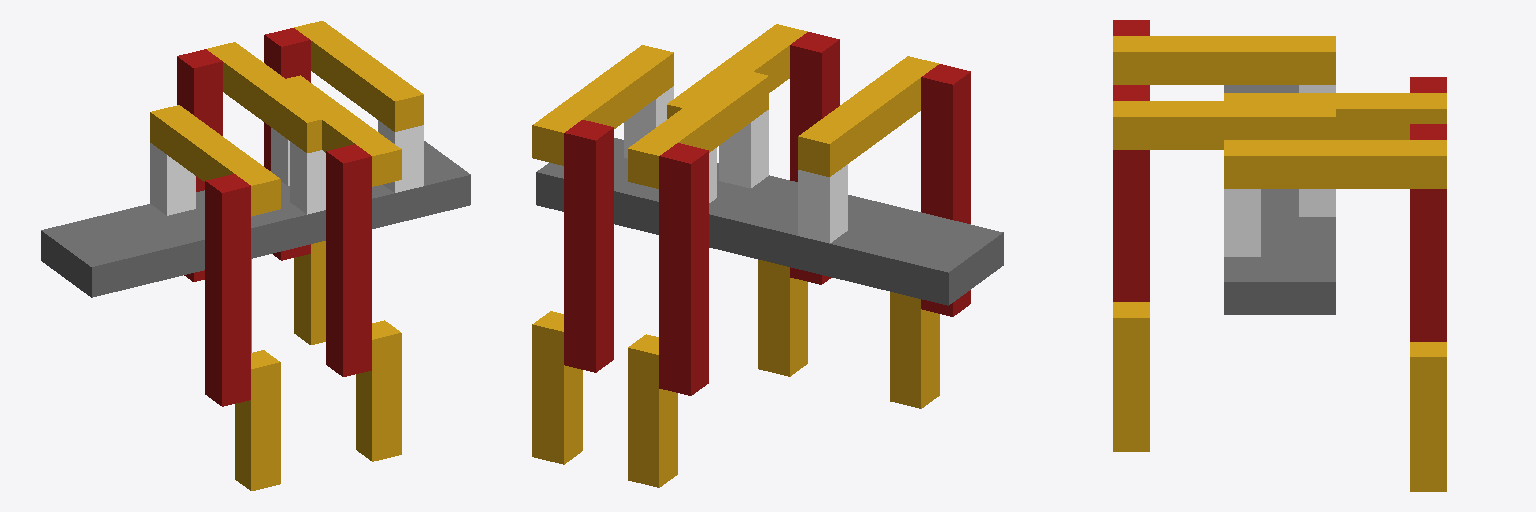
URDF robot description (v0):
<?xml version="1.0" encoding="utf-8"?>
<!-- =================================================================================== -->
<!-- |    This document was autogenerated by xacro from ../robots/v0variants/xacros/v0_4l_19.xacro | -->
<!-- |    EDITING THIS FILE BY HAND IS NOT RECOMMENDED                                 | -->
<!-- =================================================================================== -->
<robot name="v0">
  <material name="grey">
    <color rgba="0.5 0.5 0.5 1"/>
  </material>
  <material name="white">
    <color rgba="1 1 1 1"/>
  </material>
  <material name="yellow">
    <color rgba="0.91 0.7 0.14 1"/>
  </material>
  <material name="red">
    <color rgba="0.71 0.14 0.14 1"/>
  </material>
  <link name="body">
    <visual>
      <geometry>
        <box size="1.3 0.3 0.1"/>
      </geometry>
      <material name="grey"/>
      <origin rpy="0 0 0" xyz="0 0 0.7"/>
    </visual>
    <collision>
      <geometry>
        <box size="1.3 0.3 0.1"/>
      </geometry>
      <origin rpy="0 0 0" xyz="0 0 0.7"/>
    </collision>
    <inertial>
      <mass value="99.84"/>
      <inertia ixx="0.832" ixy="0.0" ixz="0.0" iyy="14.144" iyz="0.0" izz="14.8096"/>
    </inertial>
  </link>
  <link name="l1_segment_1">
    <visual>
      <geometry>
        <box size="0.1 0.1 0.2"/>
      </geometry>
      <material name="white"/>
      <origin rpy="0 0 0" xyz="0 0 0.1"/>
    </visual>
    <collision>
      <geometry>
        <box size="0.1 0.1 0.2"/>
      </geometry>
      <origin rpy="0 0 0" xyz="0 0 0.1"/>
    </collision>
    <inertial>
      <mass value="5.12"/>
      <inertia ixx="0.0213333333333" ixy="0.0" ixz="0.0" iyy="0.0213333333333" iyz="0.0" izz="0.00853333333333"/>
    </inertial>
  </link>
  <joint name="l1_base_to_joint_1" type="fixed">
    <parent link="body"/>
    <child link="l1_segment_1"/>
    <origin rpy="0 0 0" xyz="0.13839696058181405 -0.1 0.75"/>
  </joint>
  <link name="l1_segment_2_HIP">
    <visual>
      <geometry>
        <box size="0.1 0.6 0.1"/>
      </geometry>
      <material name="yellow"/>
      <origin rpy="0 0 0" xyz="0 0.25 0"/>
    </visual>
    <collision>
      <geometry>
        <box size="0.1 0.6 0.1"/>
      </geometry>
      <origin rpy="0 0 0" xyz="0 0.25 0"/>
    </collision>
    <inertial>
      <mass value="15.36"/>
      <inertia ixx="0.4736" ixy="0.0" ixz="0.0" iyy="0.0256" iyz="0.0" izz="0.4736"/>
    </inertial>
  </link>
  <joint name="l1_joint_1_to_2" type="revolute">
    <parent link="l1_segment_1"/>
    <child link="l1_segment_2_HIP"/>
    <origin rpy="0 0 0" xyz="0 0 0.25"/>
    <axis xyz="0.0 0.0 1.0"/>
    <limit effort="2048" lower="-1.2" upper="1.2" velocity="20"/>
  </joint>
  <link name="l1_segment_3_THIGH">
    <visual>
      <geometry>
        <box size="0.1 0.1 0.7"/>
      </geometry>
      <material name="red"/>
      <origin rpy="0 0 0" xyz="0 0 -0.3"/>
    </visual>
    <collision>
      <geometry>
        <box size="0.1 0.1 0.7"/>
      </geometry>
      <origin rpy="0 0 0" xyz="0 0 -0.3"/>
    </collision>
    <inertial>
      <mass value="17.92"/>
      <inertia ixx="0.746666666667" ixy="0.0" ixz="0.0" iyy="0.746666666667" iyz="0.0" izz="0.0298666666667"/>
    </inertial>
  </link>
  <joint name="l1_joint_2_to_3" type="revolute">
    <parent link="l1_segment_2_HIP"/>
    <child link="l1_segment_3_THIGH"/>
    <origin rpy="0 0 0" xyz="-0.1 0.5 0"/>
    <axis xyz="1.0 0.0 0.0"/>
    <limit effort="2048" lower="-0.2" upper="0.75" velocity="20"/>
  </joint>
  <link name="l1_segment_4_FOOT">
    <visual>
      <geometry>
        <box size="0.1 0.1 0.4"/>
      </geometry>
      <material name="yellow"/>
      <origin rpy="0 0 0" xyz="0 0 -0.2"/>
    </visual>
    <collision>
      <geometry>
        <box size="0.1 0.1 0.4"/>
      </geometry>
      <origin rpy="0 0 0" xyz="0 0 -0.2"/>
    </collision>
    <inertial>
      <mass value="10.24"/>
      <inertia ixx="0.145066666667" ixy="0.0" ixz="0.0" iyy="0.145066666667" iyz="0.0" izz="0.0170666666667"/>
    </inertial>
  </link>
  <joint name="l1_joint_3_to_4_FOOT" type="revolute">
    <parent link="l1_segment_3_THIGH"/>
    <child link="l1_segment_4_FOOT"/>
    <origin rpy="0 0 0" xyz="0.1 0 -0.55"/>
    <axis xyz="1.0 0.0 0.0"/>
    <limit effort="2048" lower="-0.2" upper="0.5" velocity="20"/>
  </joint>
  <link name="r2_segment_1">
    <visual>
      <geometry>
        <box size="0.1 0.1 0.2"/>
      </geometry>
      <material name="white"/>
      <origin rpy="0 0 0" xyz="0 0 0.1"/>
    </visual>
    <collision>
      <geometry>
        <box size="0.1 0.1 0.2"/>
      </geometry>
      <origin rpy="0 0 0" xyz="0 0 0.1"/>
    </collision>
    <inertial>
      <mass value="5.12"/>
      <inertia ixx="0.0213333333333" ixy="0.0" ixz="0.0" iyy="0.0213333333333" iyz="0.0" izz="0.00853333333333"/>
    </inertial>
  </link>
  <joint name="r2_base_to_joint_1" type="fixed">
    <parent link="body"/>
    <child link="r2_segment_1"/>
    <origin rpy="0 0 0" xyz="-0.2256211743377856 0.1 0.75"/>
  </joint>
  <link name="r2_segment_2_HIP">
    <visual>
      <geometry>
        <box size="0.1 0.6 0.1"/>
      </geometry>
      <material name="yellow"/>
      <origin rpy="0 0 0" xyz="0 -0.25 0"/>
    </visual>
    <collision>
      <geometry>
        <box size="0.1 0.6 0.1"/>
      </geometry>
      <origin rpy="0 0 0" xyz="0 -0.25 0"/>
    </collision>
    <inertial>
      <mass value="15.36"/>
      <inertia ixx="0.4736" ixy="0.0" ixz="0.0" iyy="0.0256" iyz="0.0" izz="0.4736"/>
    </inertial>
  </link>
  <joint name="r2_joint_1_to_2" type="revolute">
    <parent link="r2_segment_1"/>
    <child link="r2_segment_2_HIP"/>
    <origin rpy="0 0 0" xyz="0 0 0.25"/>
    <axis xyz="0.0 0.0 1.0"/>
    <limit effort="2048" lower="-1.2" upper="1.2" velocity="20"/>
  </joint>
  <link name="r2_segment_3_THIGH">
    <visual>
      <geometry>
        <box size="0.1 0.1 0.7"/>
      </geometry>
      <material name="red"/>
      <origin rpy="0 0 0" xyz="0 0 -0.3"/>
    </visual>
    <collision>
      <geometry>
        <box size="0.1 0.1 0.7"/>
      </geometry>
      <origin rpy="0 0 0" xyz="0 0 -0.3"/>
    </collision>
    <inertial>
      <mass value="17.92"/>
      <inertia ixx="0.746666666667" ixy="0.0" ixz="0.0" iyy="0.746666666667" iyz="0.0" izz="0.0298666666667"/>
    </inertial>
  </link>
  <joint name="r2_joint_2_to_3" type="revolute">
    <parent link="r2_segment_2_HIP"/>
    <child link="r2_segment_3_THIGH"/>
    <origin rpy="0 0 0" xyz="-0.1 -0.5 0"/>
    <axis xyz="1.0 0.0 0.0"/>
    <limit effort="2048" lower="-0.75" upper="0.2" velocity="20"/>
  </joint>
  <link name="r2_segment_4_FOOT">
    <visual>
      <geometry>
        <box size="0.1 0.1 0.4"/>
      </geometry>
      <material name="yellow"/>
      <origin rpy="0 0 0" xyz="0 0 -0.2"/>
    </visual>
    <collision>
      <geometry>
        <box size="0.1 0.1 0.4"/>
      </geometry>
      <origin rpy="0 0 0" xyz="0 0 -0.2"/>
    </collision>
    <inertial>
      <mass value="10.24"/>
      <inertia ixx="0.145066666667" ixy="0.0" ixz="0.0" iyy="0.145066666667" iyz="0.0" izz="0.0170666666667"/>
    </inertial>
  </link>
  <joint name="r2_joint_3_to_4_FOOT" type="revolute">
    <parent link="r2_segment_3_THIGH"/>
    <child link="r2_segment_4_FOOT"/>
    <origin rpy="0 0 0" xyz="0.1 0 -0.55"/>
    <axis xyz="1.0 0.0 0.0"/>
    <limit effort="2048" lower="-0.5" upper="0.2" velocity="20"/>
  </joint>
  <link name="l3_segment_1">
    <visual>
      <geometry>
        <box size="0.1 0.1 0.2"/>
      </geometry>
      <material name="white"/>
      <origin rpy="0 0 0" xyz="0 0 0.1"/>
    </visual>
    <collision>
      <geometry>
        <box size="0.1 0.1 0.2"/>
      </geometry>
      <origin rpy="0 0 0" xyz="0 0 0.1"/>
    </collision>
    <inertial>
      <mass value="5.12"/>
      <inertia ixx="0.0213333333333" ixy="0.0" ixz="0.0" iyy="0.0213333333333" iyz="0.0" izz="0.00853333333333"/>
    </inertial>
  </link>
  <joint name="l3_base_to_joint_1" type="fixed">
    <parent link="body"/>
    <child link="l3_segment_1"/>
    <origin rpy="0 0 0" xyz="0.43875745118151743 -0.1 0.75"/>
  </joint>
  <link name="l3_segment_2_HIP">
    <visual>
      <geometry>
        <box size="0.1 0.6 0.1"/>
      </geometry>
      <material name="yellow"/>
      <origin rpy="0 0 0" xyz="0 0.25 0"/>
    </visual>
    <collision>
      <geometry>
        <box size="0.1 0.6 0.1"/>
      </geometry>
      <origin rpy="0 0 0" xyz="0 0.25 0"/>
    </collision>
    <inertial>
      <mass value="15.36"/>
      <inertia ixx="0.4736" ixy="0.0" ixz="0.0" iyy="0.0256" iyz="0.0" izz="0.4736"/>
    </inertial>
  </link>
  <joint name="l3_joint_1_to_2" type="revolute">
    <parent link="l3_segment_1"/>
    <child link="l3_segment_2_HIP"/>
    <origin rpy="0 0 0" xyz="0 0 0.25"/>
    <axis xyz="0.0 0.0 1.0"/>
    <limit effort="2048" lower="-1.2" upper="1.2" velocity="20"/>
  </joint>
  <link name="l3_segment_3_THIGH">
    <visual>
      <geometry>
        <box size="0.1 0.1 0.7"/>
      </geometry>
      <material name="red"/>
      <origin rpy="0 0 0" xyz="0 0 -0.3"/>
    </visual>
    <collision>
      <geometry>
        <box size="0.1 0.1 0.7"/>
      </geometry>
      <origin rpy="0 0 0" xyz="0 0 -0.3"/>
    </collision>
    <inertial>
      <mass value="17.92"/>
      <inertia ixx="0.746666666667" ixy="0.0" ixz="0.0" iyy="0.746666666667" iyz="0.0" izz="0.0298666666667"/>
    </inertial>
  </link>
  <joint name="l3_joint_2_to_3" type="revolute">
    <parent link="l3_segment_2_HIP"/>
    <child link="l3_segment_3_THIGH"/>
    <origin rpy="0 0 0" xyz="-0.1 0.5 0"/>
    <axis xyz="1.0 0.0 0.0"/>
    <limit effort="2048" lower="-0.2" upper="0.75" velocity="20"/>
  </joint>
  <link name="l3_segment_4_FOOT">
    <visual>
      <geometry>
        <box size="0.1 0.1 0.4"/>
      </geometry>
      <material name="yellow"/>
      <origin rpy="0 0 0" xyz="0 0 -0.2"/>
    </visual>
    <collision>
      <geometry>
        <box size="0.1 0.1 0.4"/>
      </geometry>
      <origin rpy="0 0 0" xyz="0 0 -0.2"/>
    </collision>
    <inertial>
      <mass value="10.24"/>
      <inertia ixx="0.145066666667" ixy="0.0" ixz="0.0" iyy="0.145066666667" iyz="0.0" izz="0.0170666666667"/>
    </inertial>
  </link>
  <joint name="l3_joint_3_to_4_FOOT" type="revolute">
    <parent link="l3_segment_3_THIGH"/>
    <child link="l3_segment_4_FOOT"/>
    <origin rpy="0 0 0" xyz="0.1 0 -0.55"/>
    <axis xyz="1.0 0.0 0.0"/>
    <limit effort="2048" lower="-0.2" upper="0.5" velocity="20"/>
  </joint>
  <link name="r4_segment_1">
    <visual>
      <geometry>
        <box size="0.1 0.1 0.2"/>
      </geometry>
      <material name="white"/>
      <origin rpy="0 0 0" xyz="0 0 0.1"/>
    </visual>
    <collision>
      <geometry>
        <box size="0.1 0.1 0.2"/>
      </geometry>
      <origin rpy="0 0 0" xyz="0 0 0.1"/>
    </collision>
    <inertial>
      <mass value="5.12"/>
      <inertia ixx="0.0213333333333" ixy="0.0" ixz="0.0" iyy="0.0213333333333" iyz="0.0" izz="0.00853333333333"/>
    </inertial>
  </link>
  <joint name="r4_base_to_joint_1" type="fixed">
    <parent link="body"/>
    <child link="r4_segment_1"/>
    <origin rpy="0 0 0" xyz="0.18900643016590302 0.1 0.75"/>
  </joint>
  <link name="r4_segment_2_HIP">
    <visual>
      <geometry>
        <box size="0.1 0.6 0.1"/>
      </geometry>
      <material name="yellow"/>
      <origin rpy="0 0 0" xyz="0 -0.25 0"/>
    </visual>
    <collision>
      <geometry>
        <box size="0.1 0.6 0.1"/>
      </geometry>
      <origin rpy="0 0 0" xyz="0 -0.25 0"/>
    </collision>
    <inertial>
      <mass value="15.36"/>
      <inertia ixx="0.4736" ixy="0.0" ixz="0.0" iyy="0.0256" iyz="0.0" izz="0.4736"/>
    </inertial>
  </link>
  <joint name="r4_joint_1_to_2" type="revolute">
    <parent link="r4_segment_1"/>
    <child link="r4_segment_2_HIP"/>
    <origin rpy="0 0 0" xyz="0 0 0.25"/>
    <axis xyz="0.0 0.0 1.0"/>
    <limit effort="2048" lower="-1.2" upper="1.2" velocity="20"/>
  </joint>
  <link name="r4_segment_3_THIGH">
    <visual>
      <geometry>
        <box size="0.1 0.1 0.7"/>
      </geometry>
      <material name="red"/>
      <origin rpy="0 0 0" xyz="0 0 -0.3"/>
    </visual>
    <collision>
      <geometry>
        <box size="0.1 0.1 0.7"/>
      </geometry>
      <origin rpy="0 0 0" xyz="0 0 -0.3"/>
    </collision>
    <inertial>
      <mass value="17.92"/>
      <inertia ixx="0.746666666667" ixy="0.0" ixz="0.0" iyy="0.746666666667" iyz="0.0" izz="0.0298666666667"/>
    </inertial>
  </link>
  <joint name="r4_joint_2_to_3" type="revolute">
    <parent link="r4_segment_2_HIP"/>
    <child link="r4_segment_3_THIGH"/>
    <origin rpy="0 0 0" xyz="-0.1 -0.5 0"/>
    <axis xyz="1.0 0.0 0.0"/>
    <limit effort="2048" lower="-0.75" upper="0.2" velocity="20"/>
  </joint>
  <link name="r4_segment_4_FOOT">
    <visual>
      <geometry>
        <box size="0.1 0.1 0.4"/>
      </geometry>
      <material name="yellow"/>
      <origin rpy="0 0 0" xyz="0 0 -0.2"/>
    </visual>
    <collision>
      <geometry>
        <box size="0.1 0.1 0.4"/>
      </geometry>
      <origin rpy="0 0 0" xyz="0 0 -0.2"/>
    </collision>
    <inertial>
      <mass value="10.24"/>
      <inertia ixx="0.145066666667" ixy="0.0" ixz="0.0" iyy="0.145066666667" iyz="0.0" izz="0.0170666666667"/>
    </inertial>
  </link>
  <joint name="r4_joint_3_to_4_FOOT" type="revolute">
    <parent link="r4_segment_3_THIGH"/>
    <child link="r4_segment_4_FOOT"/>
    <origin rpy="0 0 0" xyz="0.1 0 -0.55"/>
    <axis xyz="1.0 0.0 0.0"/>
    <limit effort="2048" lower="-0.5" upper="0.2" velocity="20"/>
  </joint>
</robot>

--- Render facts (derived) ---
3 views of the same robot in one strip: view 1: azimuth 30°, elevation 25°; view 2: azimuth 150°, elevation 25°; view 3: azimuth 270°, elevation 25° (orthographic).
Model v0 with 17 links and 16 joints (12 revolute, 4 fixed), rooted at body, posed all joints at 0.
Links seen in each view (by area): view 1: body, r4_segment_3_THIGH, r2_segment_3_THIGH, l3_segment_2_HIP, r2_segment_2_HIP, l1_segment_2_HIP, r2_segment_4_FOOT, r4_segment_4_FOOT, r4_segment_2_HIP, l1_segment_3_THIGH, l3_segment_4_FOOT, l3_segment_3_THIGH (+4 smaller); view 2: body, l1_segment_3_THIGH, l3_segment_3_THIGH, r2_segment_3_THIGH, r2_segment_2_HIP, l3_segment_2_HIP, l1_segment_2_HIP, l3_segment_4_FOOT, l1_segment_4_FOOT, r4_segment_4_FOOT, r2_segment_4_FOOT, r4_segment_3_THIGH (+4 smaller); view 3: body, r2_segment_2_HIP, l3_segment_2_HIP, r4_segment_2_HIP, l3_segment_3_THIGH, r4_segment_3_THIGH, l1_segment_2_HIP, l3_segment_4_FOOT, r4_segment_4_FOOT, l3_segment_1, r4_segment_1, l1_segment_3_THIGH (+1 smaller).
Link boxes in pixels (bbox=[...]): body: bbox=[41, 141, 470, 297]; r4_segment_3_THIGH: bbox=[326, 144, 371, 376]; r2_segment_3_THIGH: bbox=[205, 174, 250, 406]; l3_segment_2_HIP: bbox=[294, 21, 423, 131]; r2_segment_2_HIP: bbox=[150, 105, 280, 216]; l1_segment_2_HIP: bbox=[207, 42, 335, 152]; r2_segment_4_FOOT: bbox=[235, 350, 280, 490]; r4_segment_4_FOOT: bbox=[356, 320, 401, 461]; r4_segment_2_HIP: bbox=[287, 75, 401, 186]; l1_segment_3_THIGH: bbox=[177, 49, 222, 281]; l3_segment_4_FOOT: bbox=[294, 241, 325, 344]; l3_segment_3_THIGH: bbox=[264, 28, 310, 260]; body: bbox=[536, 138, 1003, 305]; l1_segment_3_THIGH: bbox=[659, 143, 708, 395]; l3_segment_3_THIGH: bbox=[564, 120, 613, 372]; r2_segment_3_THIGH: bbox=[921, 64, 970, 316]; r2_segment_2_HIP: bbox=[798, 56, 938, 176]; l3_segment_2_HIP: bbox=[532, 45, 673, 165]; l1_segment_2_HIP: bbox=[628, 68, 768, 188]; l3_segment_4_FOOT: bbox=[532, 311, 582, 464]; l1_segment_4_FOOT: bbox=[628, 334, 677, 487]; r4_segment_4_FOOT: bbox=[758, 260, 807, 376]; r2_segment_4_FOOT: bbox=[890, 292, 939, 408]; r4_segment_3_THIGH: bbox=[790, 32, 839, 284]; body: bbox=[1224, 85, 1335, 314]; r2_segment_2_HIP: bbox=[1113, 36, 1335, 84]; l3_segment_2_HIP: bbox=[1224, 140, 1446, 188]; r4_segment_2_HIP: bbox=[1113, 101, 1335, 149]; l3_segment_3_THIGH: bbox=[1410, 124, 1446, 341]; r4_segment_3_THIGH: bbox=[1113, 85, 1149, 301]; l1_segment_2_HIP: bbox=[1224, 93, 1446, 139]; l3_segment_4_FOOT: bbox=[1410, 342, 1446, 491]; r4_segment_4_FOOT: bbox=[1113, 302, 1149, 451]; l3_segment_1: bbox=[1224, 189, 1260, 256]; r4_segment_1: bbox=[1299, 189, 1335, 216]; l1_segment_3_THIGH: bbox=[1410, 77, 1446, 92].
Bounding box of the posed robot: 1.3 × 0.9 × 1 m (x, y, z).
Geometry: primitives only (box / cylinder / sphere), no mesh files.